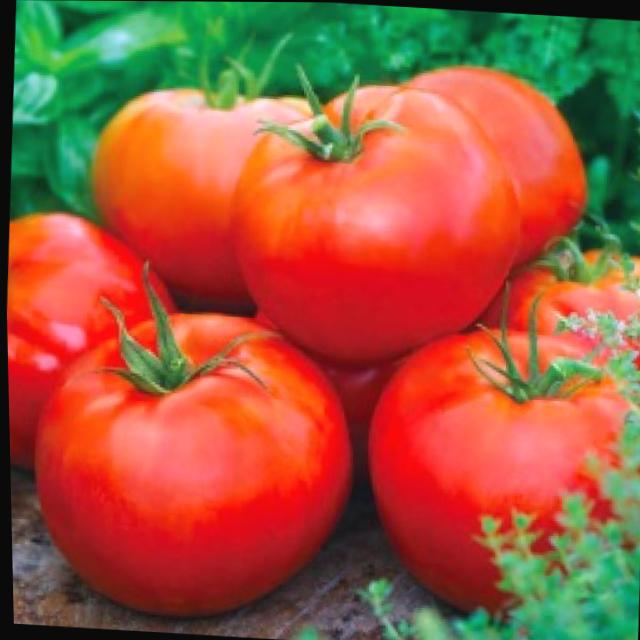tomato: (23, 305, 353, 623), (224, 77, 529, 376), (356, 321, 636, 622), (83, 83, 315, 310), (386, 60, 592, 268), (4, 215, 163, 474)
